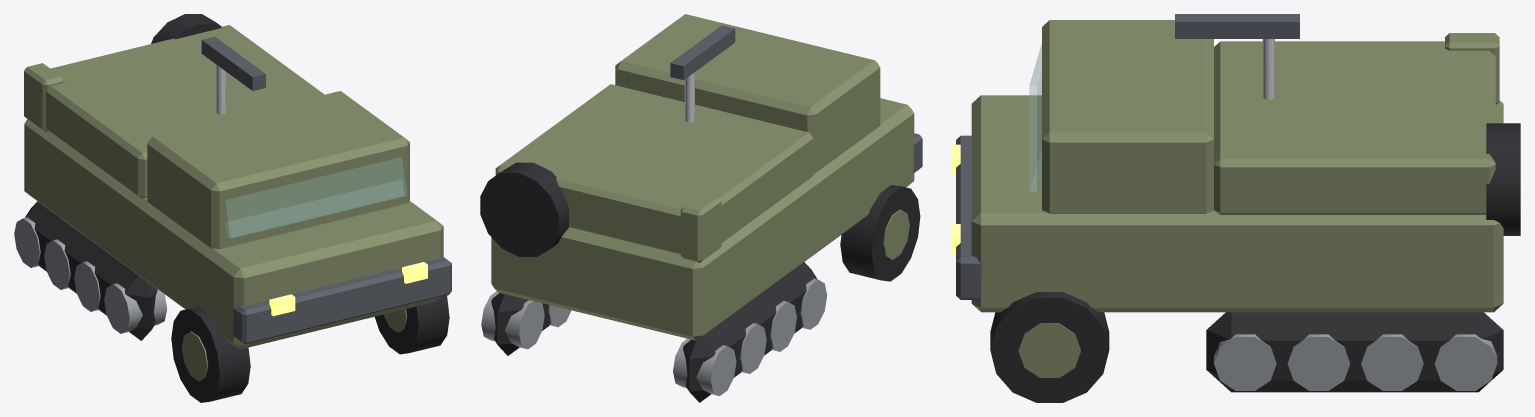
Rendered from vehicle.glb.
3 views of the same model, side by side, from view 1: azimuth 30°, elevation 25°; view 2: azimuth 150°, elevation 25°; view 3: azimuth 270°, elevation 25° (orthographic). The views are drawn at different scales.
Visible parts, largest first — view 1: vehicle; view 2: vehicle; view 3: vehicle.
Boxes of the visible parts, <box> form: vehicle: <box>14,14,451,402</box>; vehicle: <box>480,14,922,402</box>; vehicle: <box>951,14,1520,402</box>.
Size of the model in its own units: 2.1 by 2.24 by 3.64.
